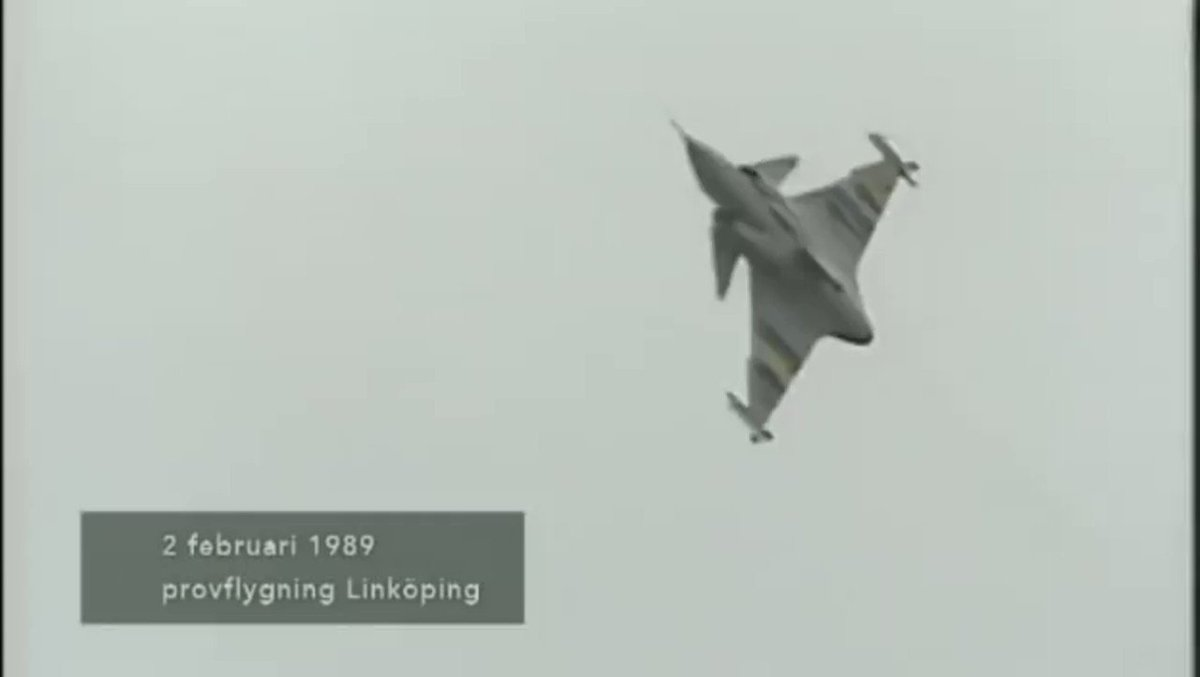JAS39: (669, 118, 921, 445)
